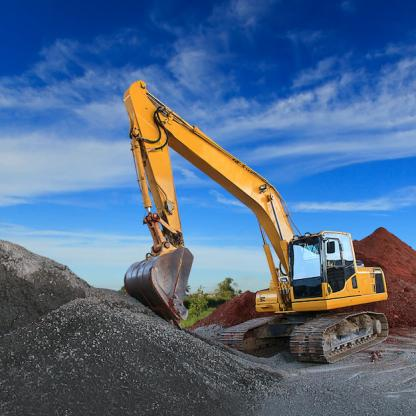excavator: (109, 70, 397, 383)
